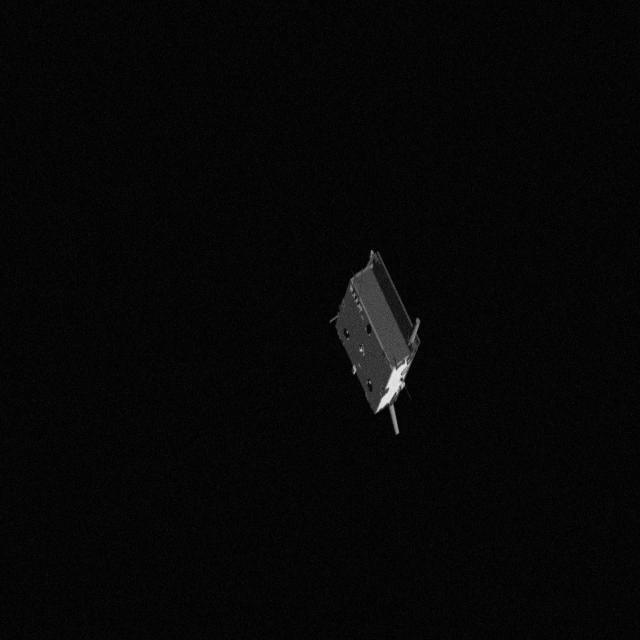medium_debris: (324, 252, 424, 442)
